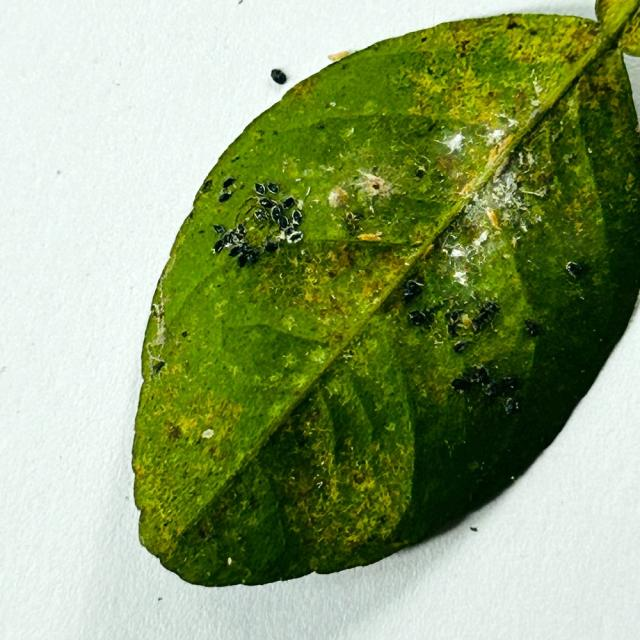Bacterial_Blight: (286, 256, 366, 323), (434, 18, 527, 71), (430, 299, 497, 340), (213, 223, 259, 267), (318, 258, 360, 302), (473, 292, 501, 337), (451, 365, 492, 395), (470, 302, 500, 332), (523, 168, 554, 197), (485, 374, 520, 399), (303, 343, 331, 368), (434, 154, 459, 180), (401, 278, 425, 304), (444, 309, 467, 336), (212, 225, 232, 252), (218, 176, 238, 202), (343, 212, 365, 233), (441, 233, 462, 255), (407, 309, 430, 328), (335, 249, 354, 270), (412, 119, 434, 137), (359, 98, 381, 116), (523, 319, 543, 337), (513, 90, 528, 111), (565, 261, 583, 278), (526, 106, 542, 125), (273, 211, 289, 229), (453, 339, 472, 354), (477, 365, 492, 384), (280, 315, 297, 331), (482, 300, 500, 315), (167, 424, 183, 440), (270, 69, 287, 84), (286, 230, 304, 244), (233, 224, 248, 240), (294, 434, 309, 450), (456, 38, 472, 52), (504, 398, 517, 415), (152, 360, 166, 375), (281, 196, 296, 210), (225, 362, 239, 377), (264, 240, 279, 253), (447, 323, 460, 338), (258, 197, 274, 209), (291, 209, 303, 225), (247, 493, 259, 509), (271, 205, 283, 221), (532, 79, 544, 95), (625, 173, 636, 190), (253, 208, 267, 221), (200, 179, 213, 193), (228, 245, 242, 258), (225, 232, 238, 246), (372, 400, 386, 413), (213, 239, 225, 254), (267, 181, 280, 194), (352, 472, 365, 485), (214, 299, 227, 312), (551, 129, 563, 143), (467, 460, 481, 472), (132, 463, 144, 477), (497, 115, 512, 126), (414, 167, 427, 179), (254, 182, 266, 195), (403, 287, 415, 300), (506, 20, 521, 30), (426, 121, 438, 133), (564, 152, 577, 163), (197, 526, 208, 539), (519, 221, 530, 234), (573, 220, 584, 233), (384, 421, 397, 432), (626, 199, 637, 212), (212, 224, 226, 234), (341, 349, 355, 359), (526, 152, 536, 166), (320, 164, 335, 173), (309, 558, 319, 570), (276, 231, 287, 241), (150, 305, 159, 317), (511, 237, 520, 249), (425, 66, 435, 76), (345, 127, 355, 137), (230, 155, 241, 163), (315, 122, 326, 130), (378, 515, 387, 524), (256, 129, 265, 137), (531, 99, 540, 107), (297, 199, 304, 209), (305, 186, 311, 197), (300, 249, 308, 257), (369, 205, 375, 215), (181, 330, 188, 338), (420, 36, 428, 43), (372, 182, 380, 189), (272, 130, 279, 137), (317, 481, 323, 489), (587, 147, 593, 154), (469, 527, 477, 532), (330, 101, 336, 107), (295, 178, 302, 182), (158, 597, 163, 602)
Lemon: (129, 0, 639, 591)
